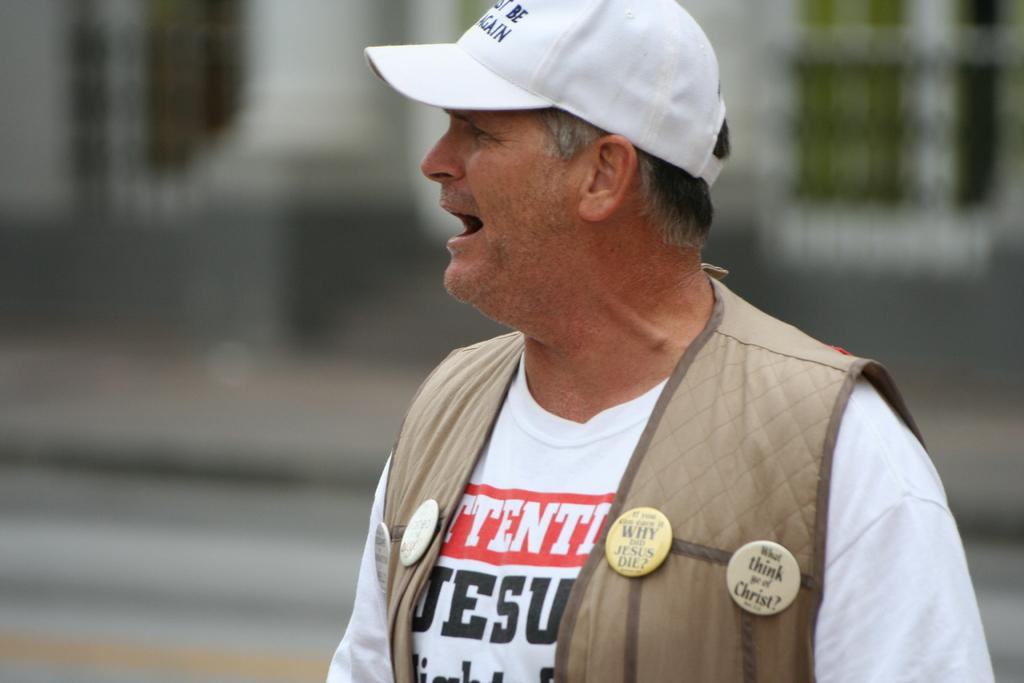Hat: (363, 0, 732, 188)
